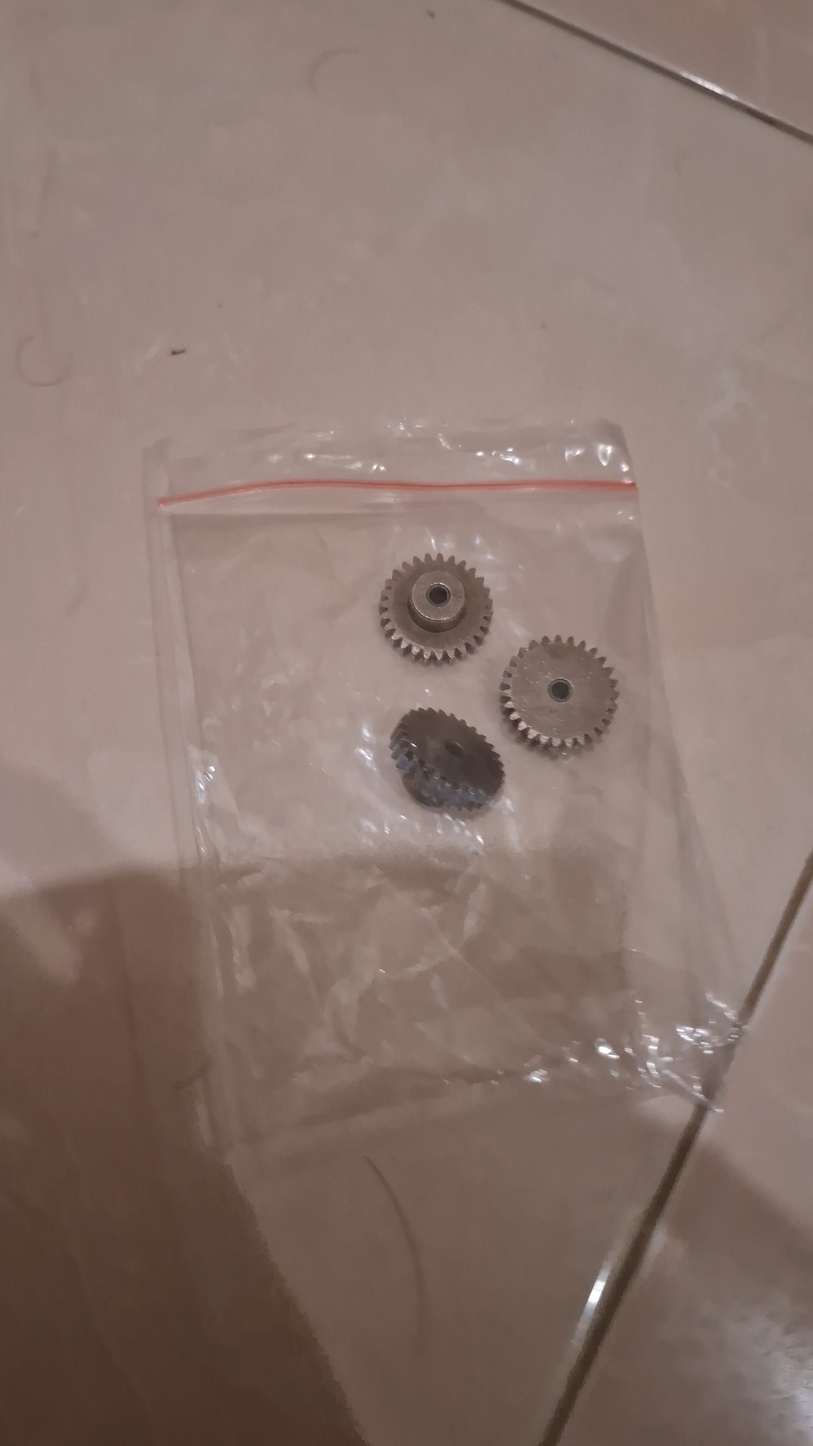spur gear: (496, 635, 621, 755), (376, 551, 497, 664), (385, 705, 505, 811)
